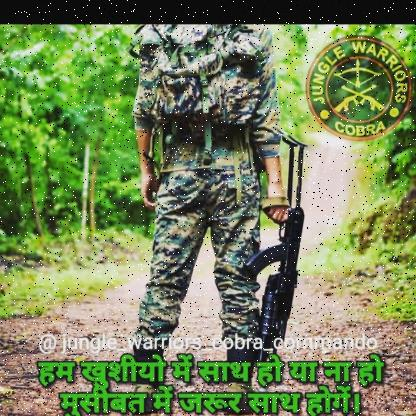rifle: (240, 132, 310, 374)
